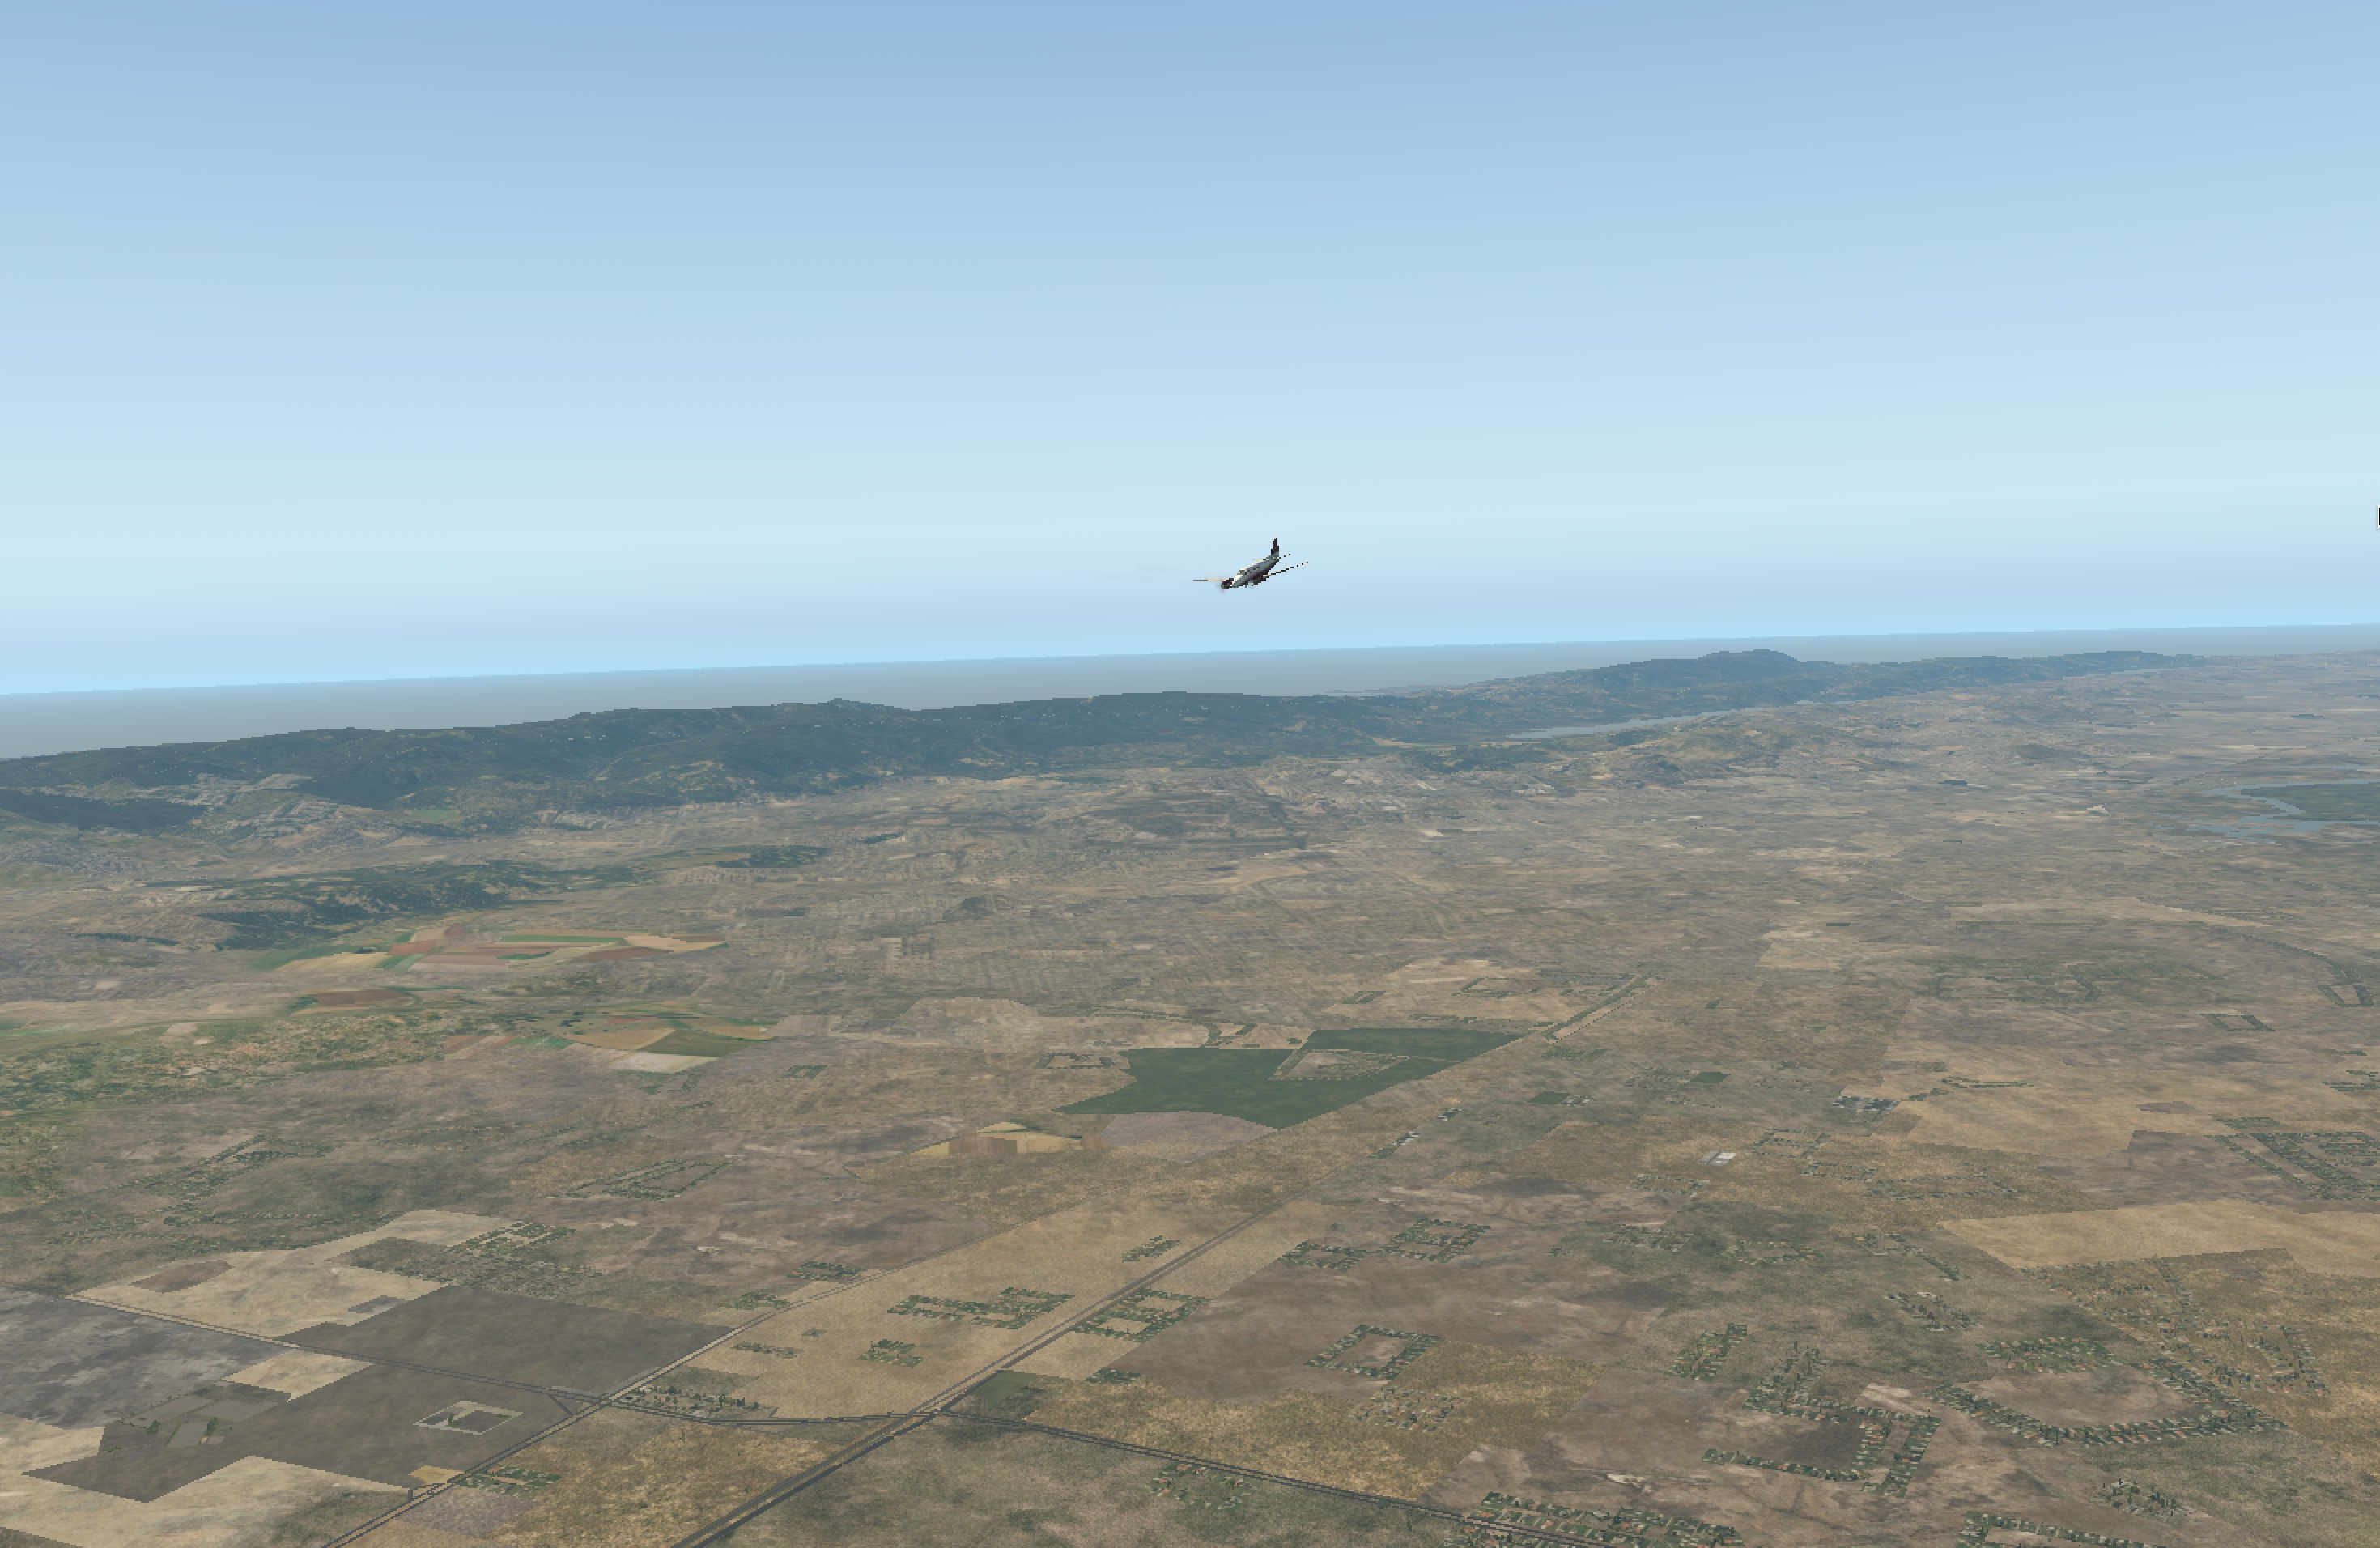aircraft: (1180, 555, 1320, 607)
